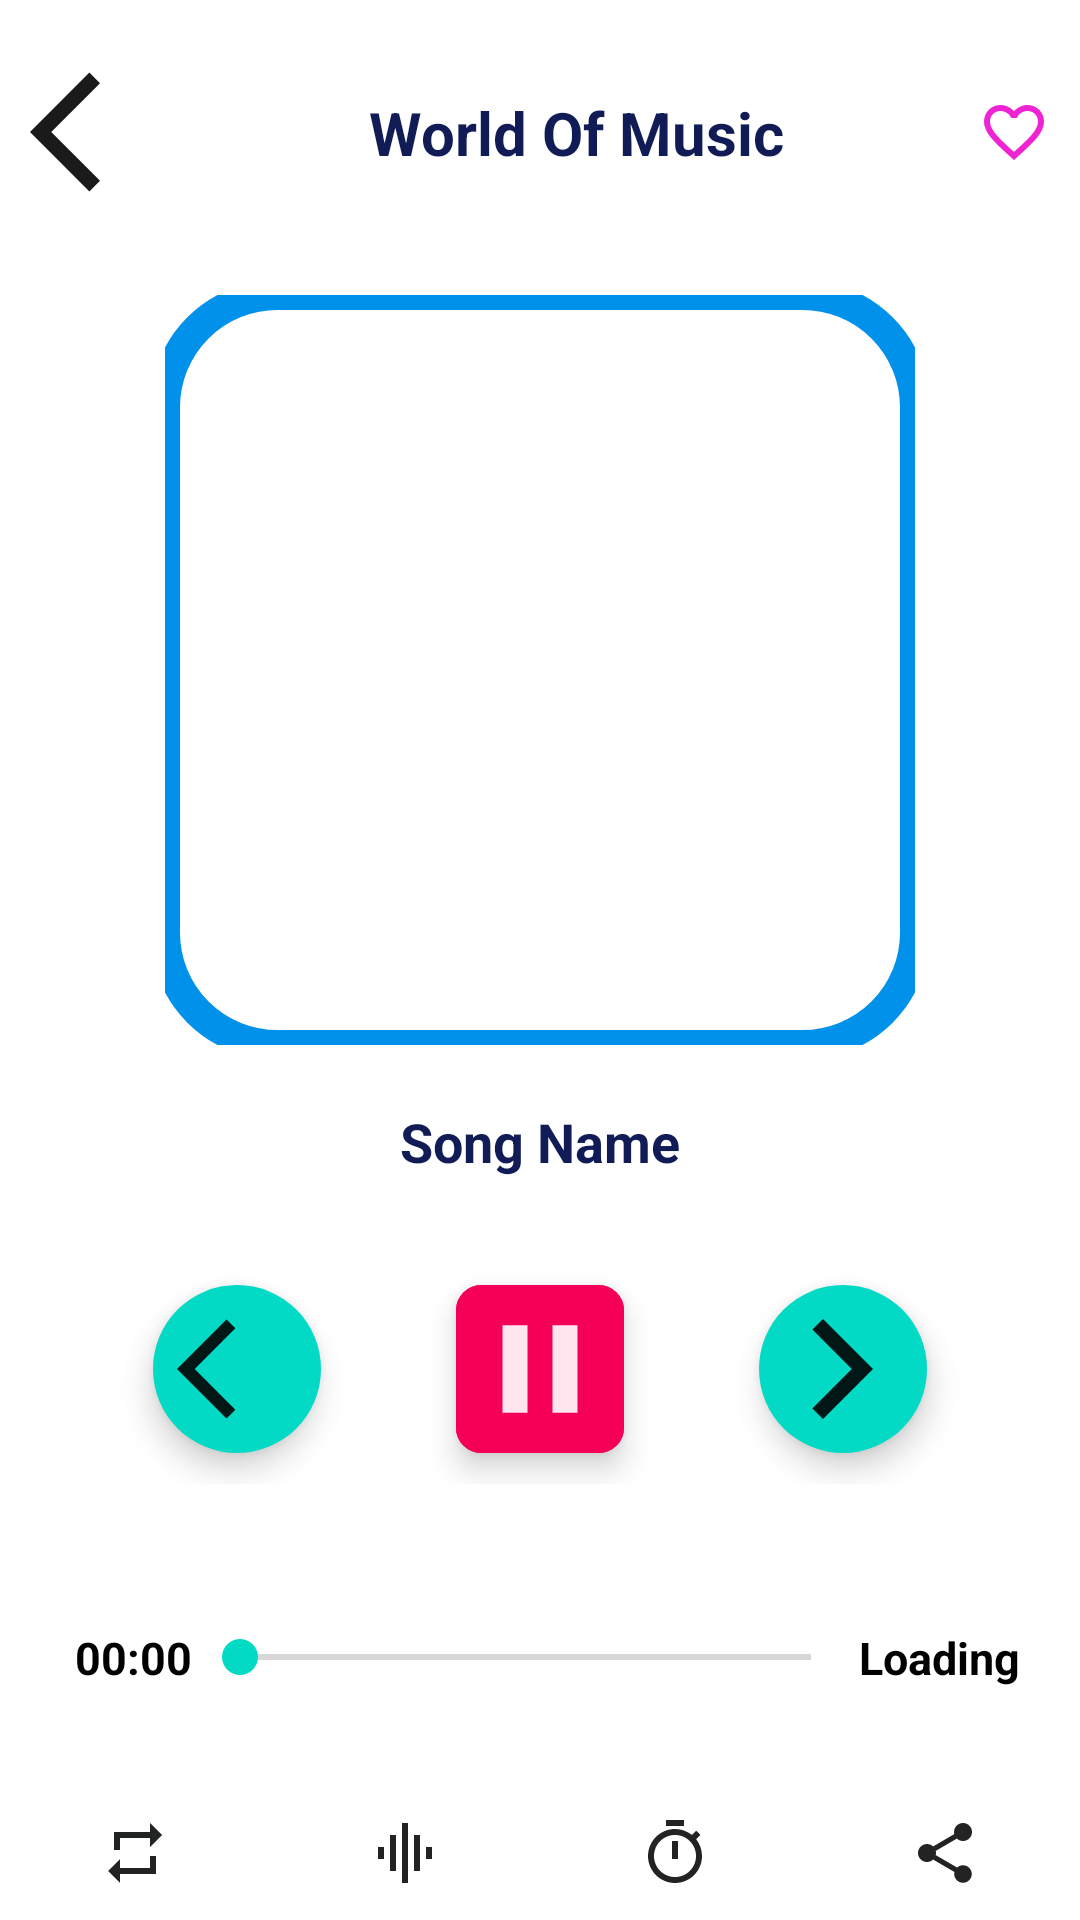

Screen size 1080 x 1920. Icon name, then its box in pixels as BBox(x1, y1, x2, y2):
arrow back: BBox(153, 1285, 321, 1453)
arrow forward: BBox(759, 1285, 927, 1453)
Back: BBox(30, 72, 100, 192)
Equalizer: BBox(378, 1823, 432, 1883)
Favorite: BBox(984, 105, 1044, 160)
pause: BBox(456, 1285, 624, 1453)
Repeat: BBox(108, 1823, 162, 1883)
Share: BBox(918, 1823, 972, 1883)
Timer: BBox(648, 1820, 702, 1883)
